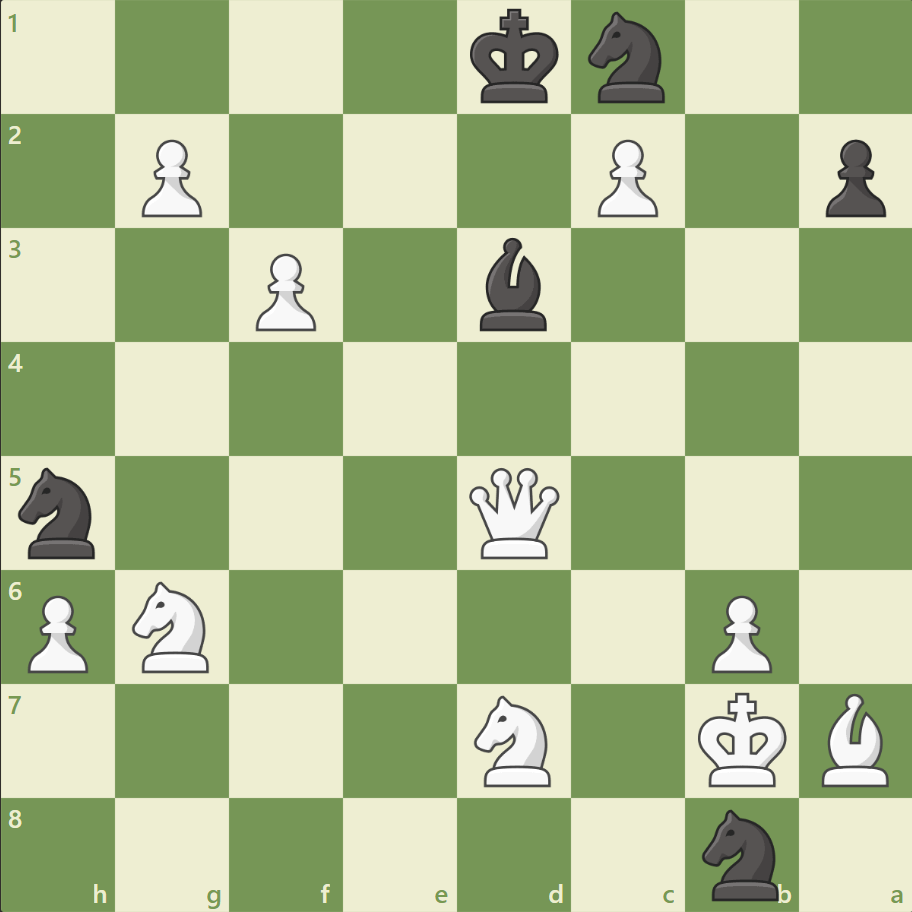B: (812, 687, 896, 790)
K: (692, 685, 792, 793)
N: (124, 575, 222, 677), (465, 688, 562, 791)
P: (701, 586, 776, 677), (20, 586, 95, 677), (247, 246, 322, 337), (133, 132, 208, 223), (588, 132, 662, 223)
Q: (464, 463, 563, 562)
b: (471, 233, 555, 336)
k: (465, 4, 565, 112)
n: (11, 461, 108, 564), (579, 7, 676, 110), (692, 802, 789, 904)
p: (815, 132, 889, 223)
